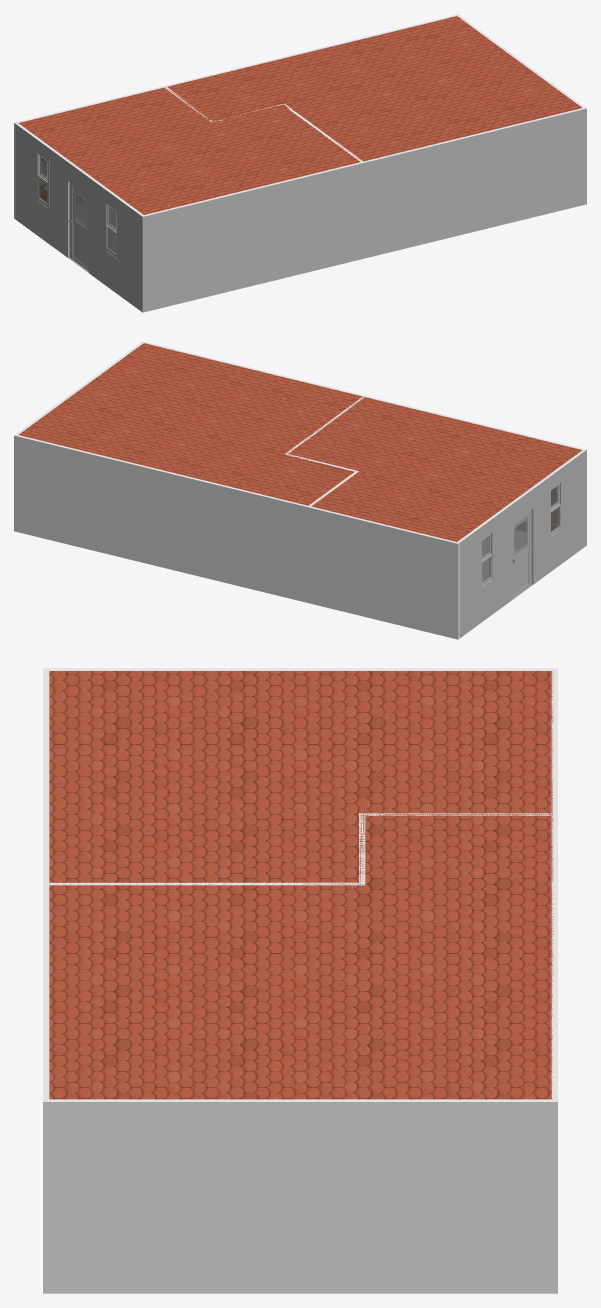
The model's file is casa_pp.obj.
The picture shows the model from 3 angles, top to bottom: view 1: azimuth 30°, elevation 25°; view 2: azimuth 150°, elevation 25°; view 3: azimuth 270°, elevation 25°; orthographic projection. The views are drawn at different scales.
Visible parts, largest first — view 1: room_9_51, wall_3_16, wall_4_22, PolyMesh_1_61, wall_3_18, wall_1_6, wall_3_19, wall_1_7, room_9_50, sweethome3d_window_pane_60; view 2: room_9_51, wall_1_4, wall_4_22, wall_1_6, wall_3_18, wall_3_19, wall_1_7, PolyMesh_1_61, sweethome3d_window_pane_60; view 3: room_9_51, wall_2_10, wall_3_19, wall_1_7, wall_1_6, wall_3_18, wall_2_12, wall_4_24, wall_2_13, wall_4_25.
Part boxes in pixels (<box>): room_9_51: <box>18,15,581,214</box>; wall_3_16: <box>142,108,586,312</box>; wall_4_22: <box>15,124,142,312</box>; PolyMesh_1_61: <box>72,221,88,270</box>; wall_3_18: <box>143,108,586,216</box>; wall_1_6: <box>15,14,457,122</box>; wall_3_19: <box>143,108,583,215</box>; wall_1_7: <box>16,15,456,122</box>; room_9_50: <box>76,203,115,251</box>; sweethome3d_window_pane_60: <box>74,190,87,228</box>; room_9_51: <box>19,343,582,541</box>; wall_1_4: <box>14,435,458,639</box>; wall_4_22: <box>459,450,586,638</box>; wall_1_6: <box>14,435,457,543</box>; wall_3_18: <box>143,341,585,449</box>; wall_3_19: <box>143,342,584,449</box>; wall_1_7: <box>17,435,457,542</box>; PolyMesh_1_61: <box>513,548,528,597</box>; sweethome3d_window_pane_60: <box>514,517,527,555</box>; room_9_51: <box>49,671,553,1099</box>; wall_2_10: <box>43,1102,557,1293</box>; wall_3_19: <box>46,670,49,1100</box>; wall_1_7: <box>551,670,554,1100</box>; wall_1_6: <box>555,668,557,1101</box>; wall_3_18: <box>43,668,45,1101</box>; wall_2_12: <box>43,1100,557,1101</box>; wall_4_24: <box>43,668,551,669</box>; wall_2_13: <box>46,1099,554,1100</box>; wall_4_25: <box>46,669,551,670</box>.
Size of what is drawn, in the model's own units: 1213 by 250 by 609.
